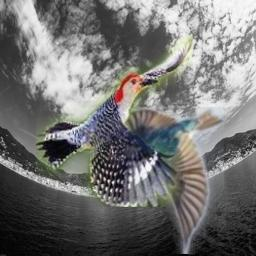Swallow: (94, 107, 224, 254)
Woodpecker: (36, 36, 193, 207)
